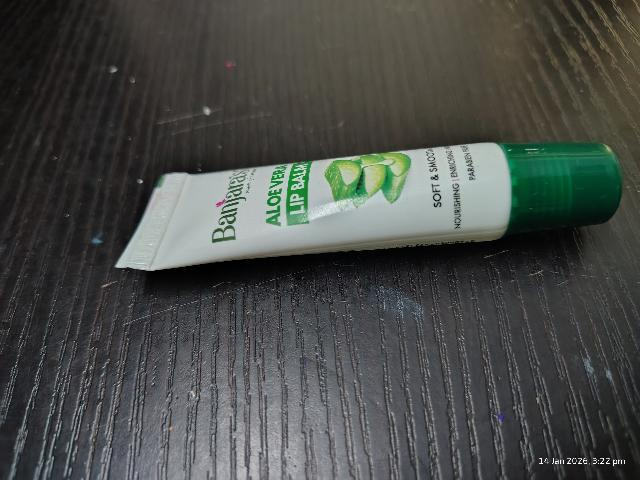banjaras lipbam: (121, 138, 622, 275)
